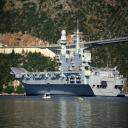Portanaves: (10, 23, 128, 101)
